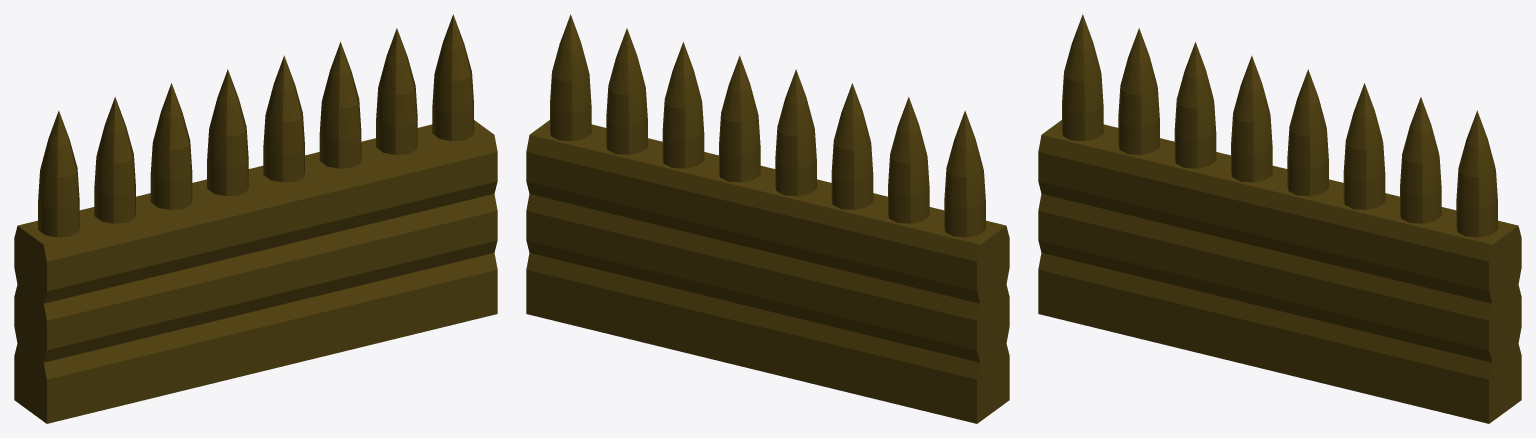
The model's file is Fence_Wall_Wood.fbx.
The picture shows the model from 3 angles, left to right: view 1: azimuth 30°, elevation 25°; view 2: azimuth 150°, elevation 25°; view 3: azimuth 330°, elevation 25°; orthographic projection.
Parts seen in each view (by area): view 1: Fence_Wall_Full; view 2: Fence_Wall_Full; view 3: Fence_Wall_Full.
Part boxes in pixels (box(x1,y1,x2,y2)): Fence_Wall_Full: box(14, 14, 497, 423); Fence_Wall_Full: box(526, 14, 1009, 423); Fence_Wall_Full: box(1038, 14, 1521, 423).
Size of the model in its own units: 8 by 5 by 1.
